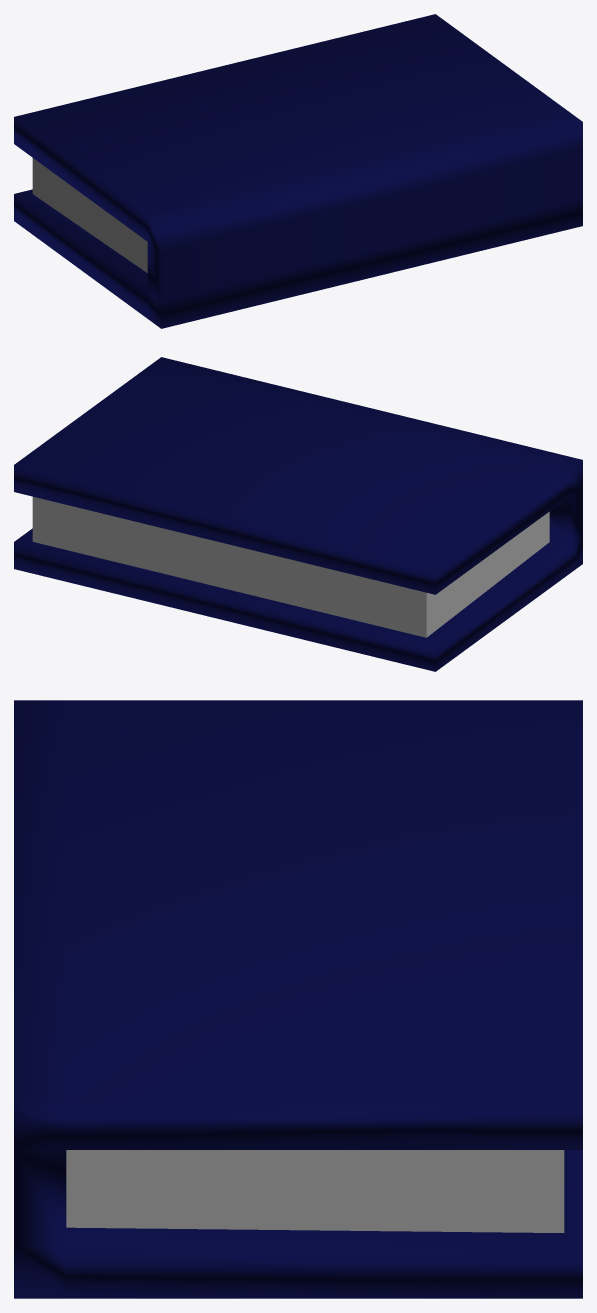
Rendered from BlueBook.fbx.
The picture shows the model from 3 angles, top to bottom: view 1: azimuth 30°, elevation 25°; view 2: azimuth 150°, elevation 25°; view 3: azimuth 270°, elevation 25°; orthographic projection. The views are drawn at different scales.
Parts seen in each view (by area): view 1: Cube; view 2: Cube; view 3: Cube.
Boxes of the visible parts, x1,y1,x2,y2 form: Cube: (14, 14, 582, 328); Cube: (14, 357, 582, 671); Cube: (14, 700, 582, 1298).
Size of the model in its own units: 330 by 77.95 by 200.
